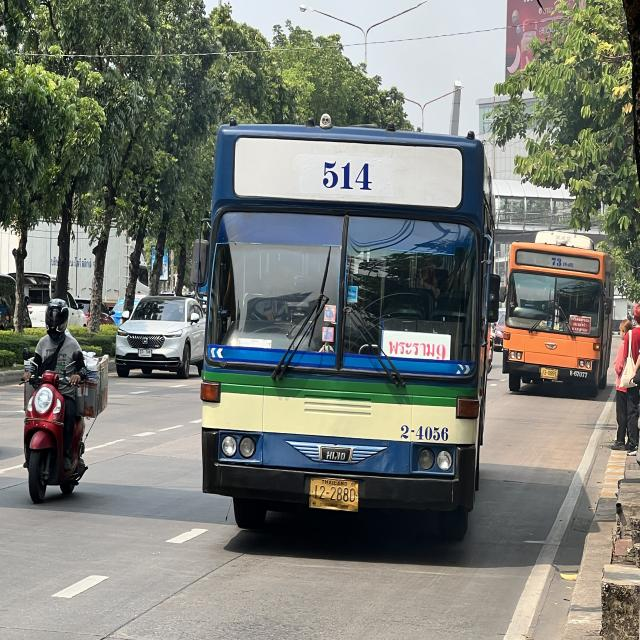BMTA-bus: (185, 109, 504, 551), (505, 224, 619, 404)
Bus-Line-Number: (309, 148, 385, 198), (550, 255, 574, 269)
Destination-Sign-Extra-Bus: (383, 331, 450, 362), (570, 316, 591, 334)
